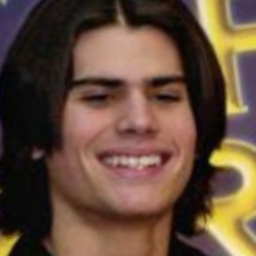Person: (3, 7, 227, 256)
